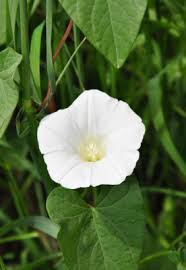bindweed: (35, 88, 146, 190)
